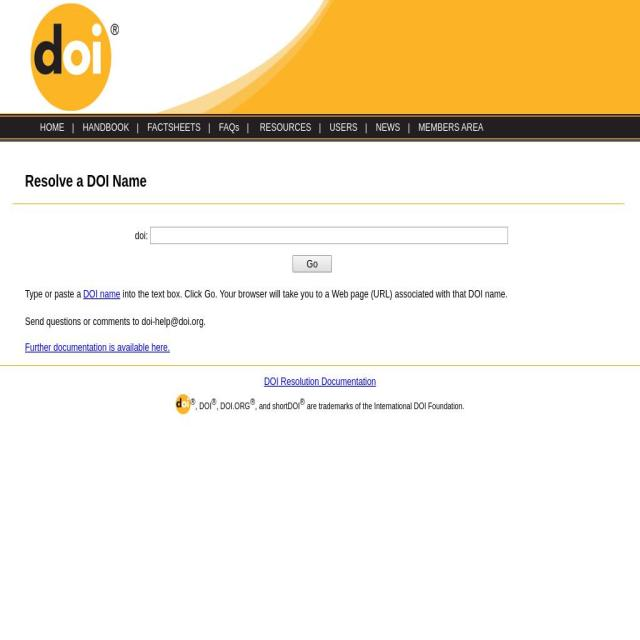button: (412, 121, 487, 133), (140, 121, 203, 133), (253, 121, 314, 133), (76, 121, 133, 133), (323, 121, 361, 133), (369, 121, 404, 133), (34, 121, 68, 133), (213, 121, 243, 133)
field: (150, 227, 509, 245), (292, 255, 332, 273)
heading: (25, 172, 618, 189)
image: (0, 0, 388, 114), (0, 139, 640, 142), (0, 141, 62, 158), (0, 117, 21, 138), (175, 394, 191, 414), (624, 253, 637, 269)
link: (25, 341, 170, 354), (264, 375, 376, 387), (83, 287, 121, 301)
text: (0, 313, 624, 330), (120, 287, 508, 301), (304, 400, 464, 411), (25, 287, 83, 301), (255, 400, 300, 411), (216, 400, 251, 411), (134, 229, 150, 243), (195, 400, 212, 411), (242, 121, 254, 133), (314, 121, 324, 133), (403, 121, 413, 133), (132, 121, 141, 133), (204, 121, 213, 133), (361, 121, 370, 133), (68, 121, 76, 133), (190, 396, 196, 406), (211, 396, 217, 406), (250, 396, 256, 406), (299, 396, 305, 406)
